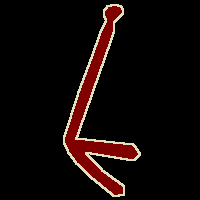tie: (64, 4, 140, 196)
